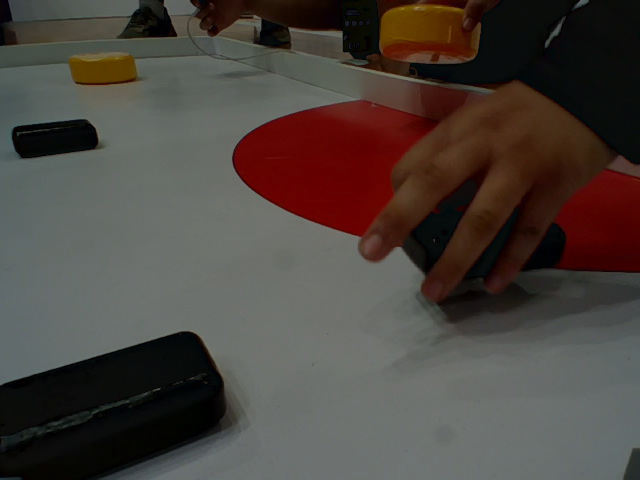black: (1, 328, 231, 473), (9, 118, 102, 160)
yellow: (68, 53, 141, 87)
